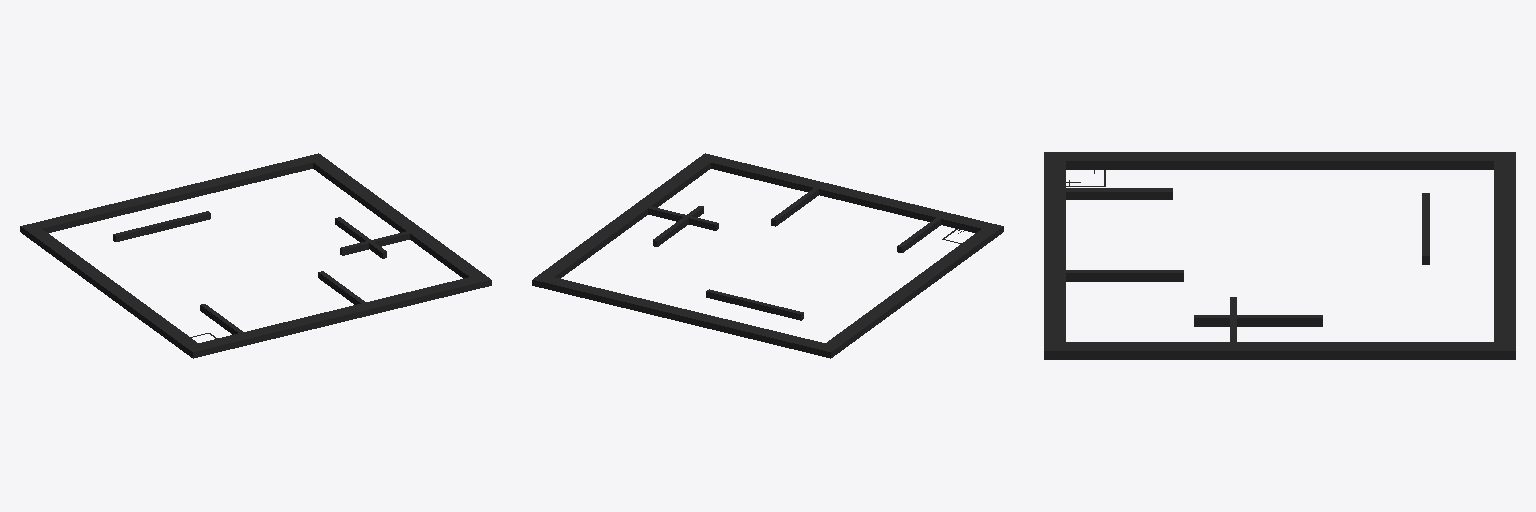
The robot description file, URDF, robot "Room13":
<robot name="Room13">
    <link name="_name">
        <visual> 
            <origin rpy="0.0 0.0 0.0" xyz="-0.5079233018534784 -0.4903284119083773 -0.009999999999999997" />
                <geometry>
                    <mesh filename="Room13/Room13.obj" scale="1 1 0.1" />
                </geometry>

            <material name="black">
                <color rgba="0.2 0.2 0.2 0.95" />
            </material>
        </visual>

       <collision concave="yes" name="collision_0">
            <origin rpy="0.0 0.0 0.0" xyz="-0.5079233018534784 -0.4903284119083773 -0.009999999999999997" />
            <geometry>
                <mesh filename="Room13/Room13_vhacd.obj" scale="1 1 0.1" />
            </geometry>
        </collision>

        <inertial> 
            <mass value="0" />
            <inertia ixx="0" ixy="0" ixz="0" iyy="0" iyz="0" izz="0" />
        </inertial> 
    </link>
</robot>

--- What the picture shows (computed from the rendered views, not written in the file) ---
Views: 3 orthographic renders of the robot side by side, from view 1: azimuth 30°, elevation 25°; view 2: azimuth 150°, elevation 25°; view 3: azimuth 270°, elevation 25°.
Robot: Room13 — 1 links, 0 joints (none); root link _name; default pose: all joints at 0.
Links seen in each view (by area): view 1: _name; view 2: _name; view 3: _name.
Boxes of the visible links, x1=… form: _name: x1=20, y1=153, x2=491, y2=358; _name: x1=532, y1=153, x2=1003, y2=358; _name: x1=1044, y1=152, x2=1515, y2=359.
Size in the robot's own frame: 1 by 1 by 0.02 metres.
Meshes: 1 distinct files referenced, 1 mesh visuals loaded (1 OBJ).